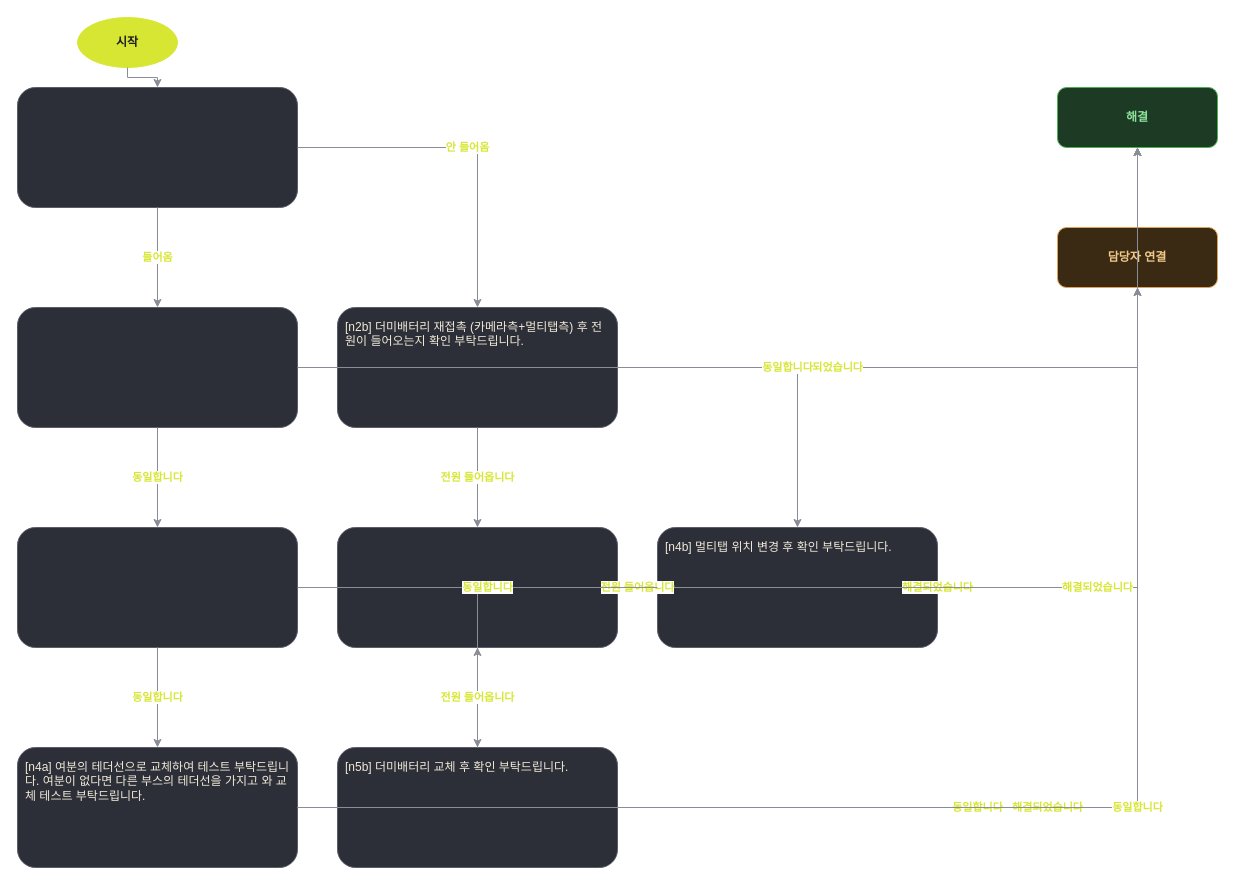
The diagram is 1235 pixels wide and 885 high, and some of its shapes have lost their labels. Here are the shapes that lost their labels. From the top down, the centre of each, then its label:
(x=157, y=147): [n1] 카메라 전원이 들어와있는지 확인해주세요 (아무것도 만지지 말고). 화면이 꺼져있다면 메뉴 버튼을 눌러서 전원이 들어오는지 확인해주세요.
(x=157, y=367): [n2a] 테더선 재접촉 후 테스트 부탁드립니다.
(x=157, y=587): [n3a] 테더선이 꽂힌 PC의 USB 포트를 다른 곳으로 위치 이동시켜서 꽂은 후 다시 테스트해주세요.
(x=477, y=587): [n3b] 통신 테스트 부탁드립니다.
